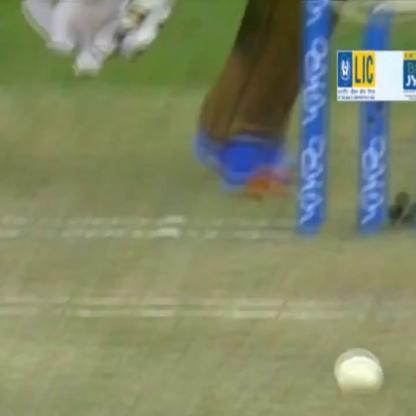ball: (334, 368, 386, 411), (326, 344, 388, 373)
